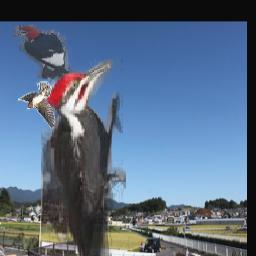Swallow: (16, 82, 55, 129)
Woodpecker: (40, 59, 125, 256), (12, 24, 73, 80)
